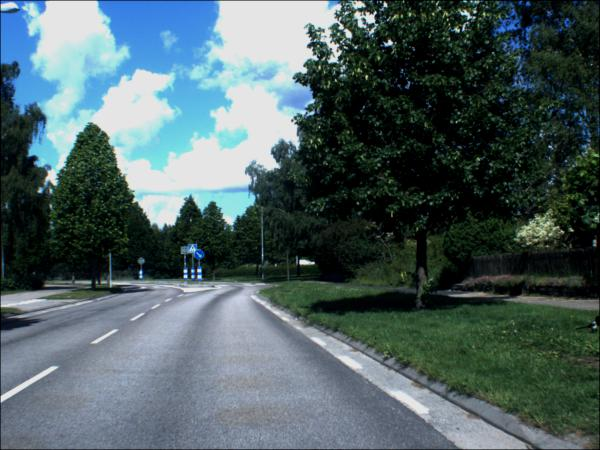PASS_RIGHT_SIDE: (196, 251, 206, 262)
PEDESTRIAN_CROSSING: (190, 245, 199, 254)
